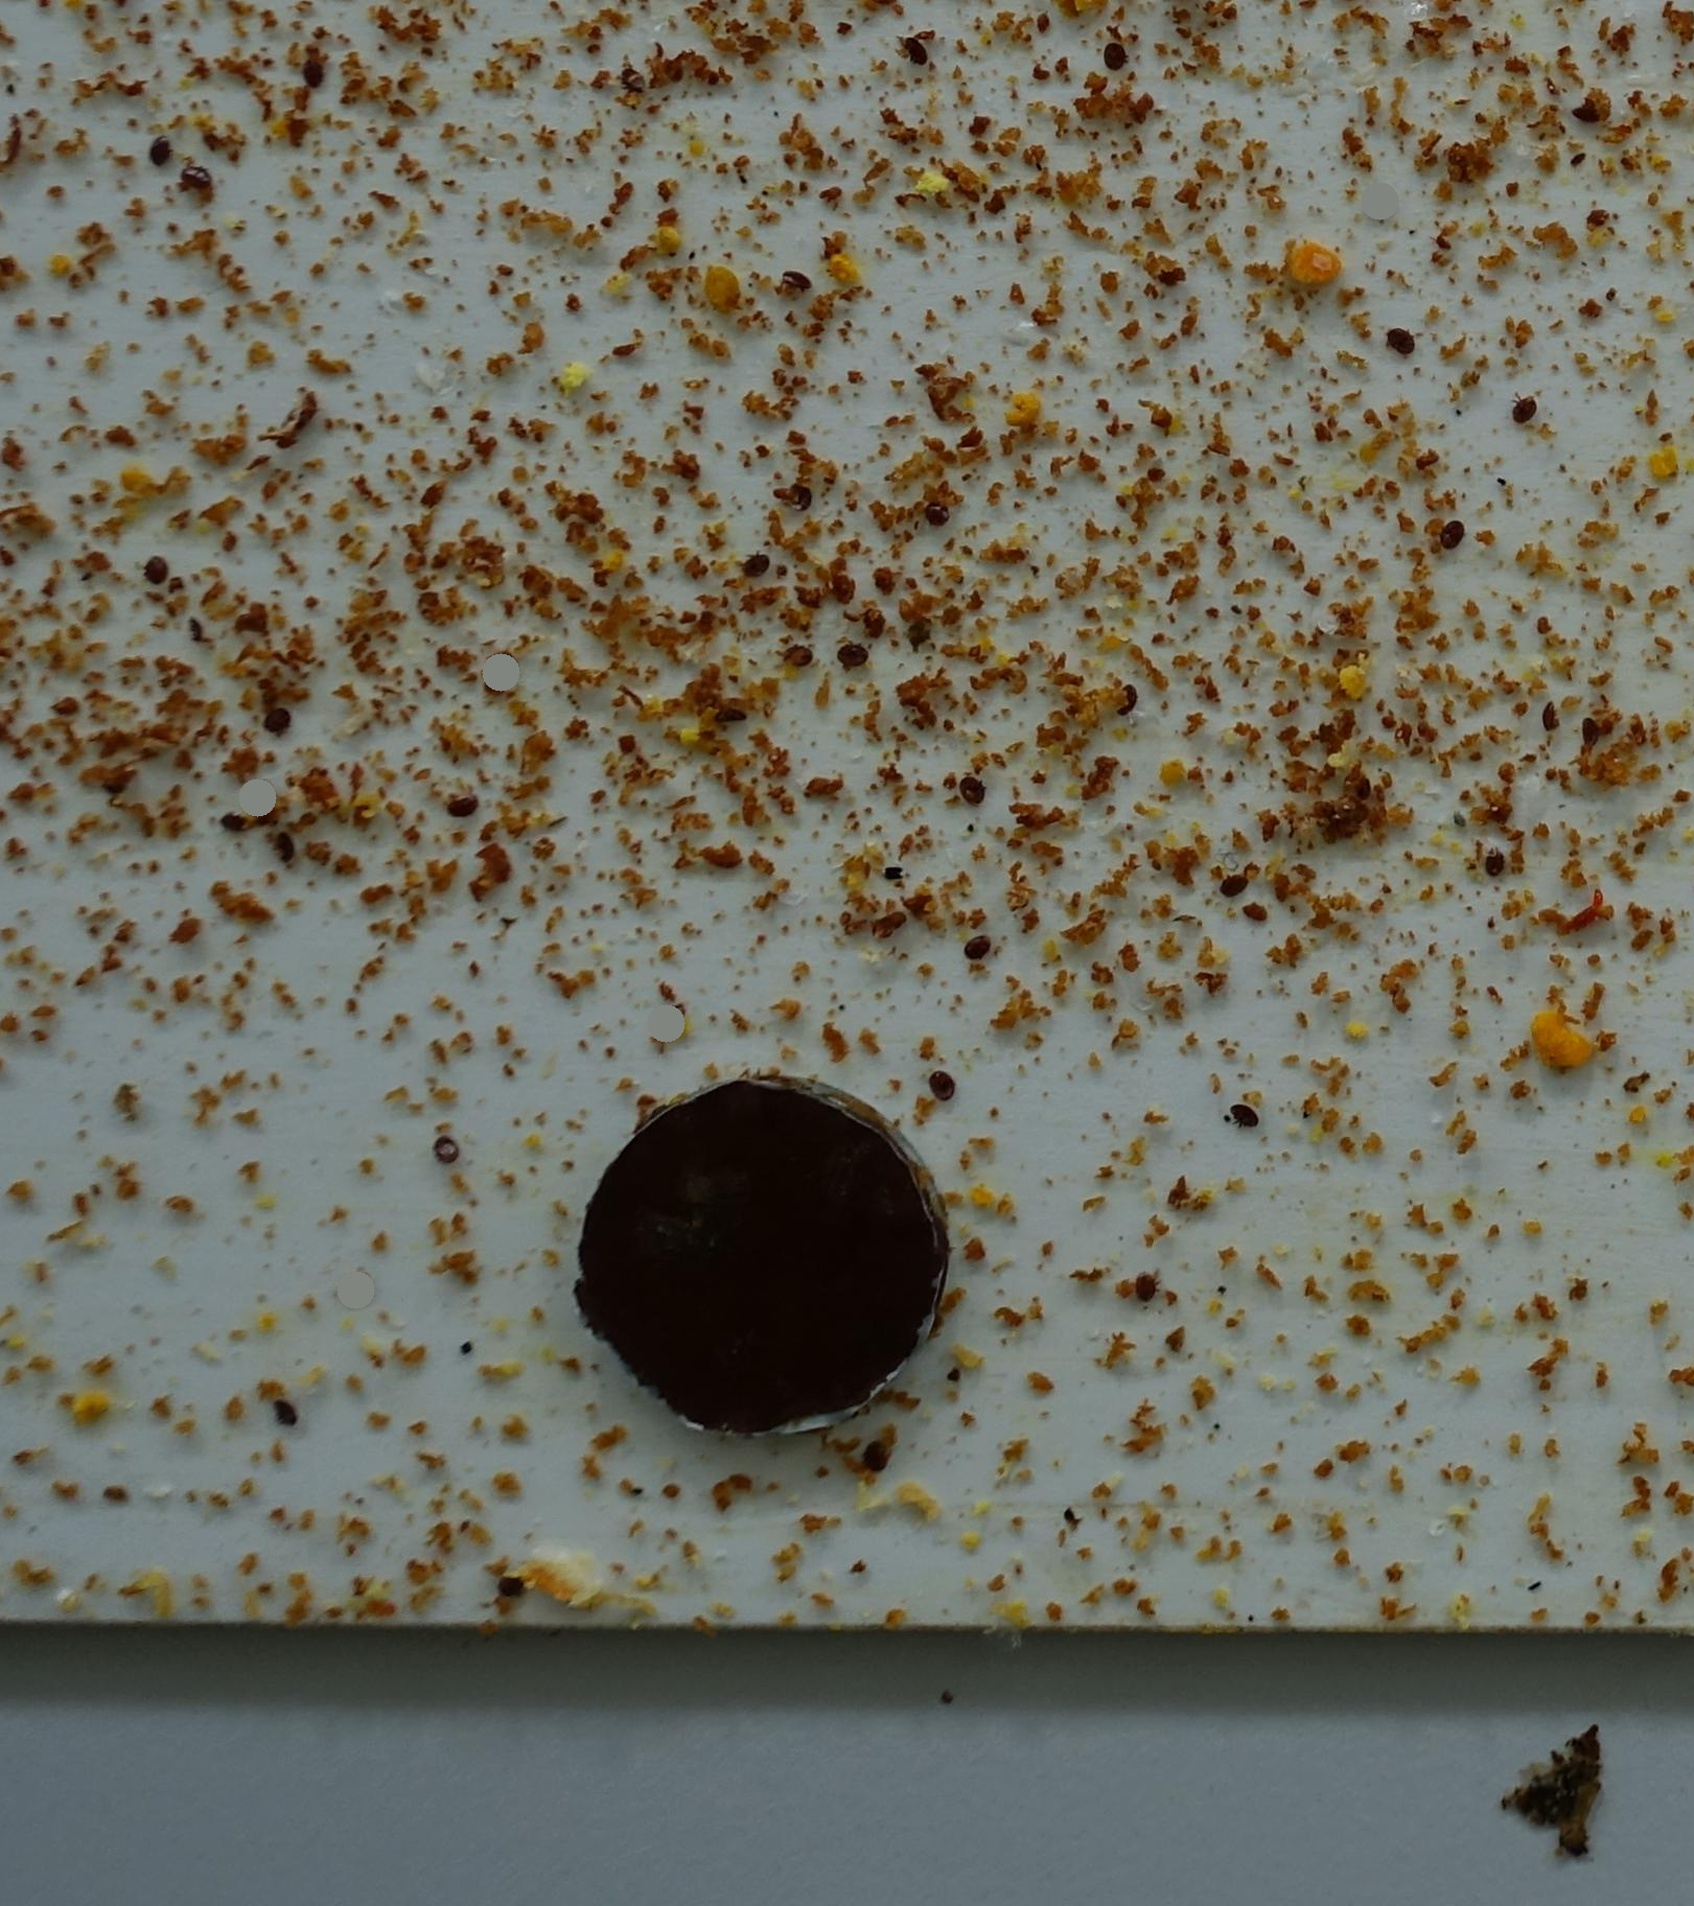Varroa: (612, 59, 652, 100), (744, 553, 773, 584), (782, 266, 813, 296), (253, 708, 285, 736), (1109, 687, 1140, 714), (1128, 1277, 1158, 1304), (1212, 868, 1241, 896), (863, 1442, 893, 1470), (275, 1398, 302, 1427), (428, 1141, 456, 1167), (298, 60, 325, 87), (1580, 95, 1607, 121), (1437, 523, 1463, 549), (958, 933, 984, 960), (1383, 332, 1408, 360), (1099, 46, 1127, 70), (450, 794, 477, 819), (961, 778, 986, 806), (144, 557, 170, 582), (930, 1074, 955, 1098), (154, 131, 177, 155), (1521, 397, 1540, 423), (1243, 1107, 1261, 1131), (1490, 853, 1509, 875), (927, 500, 947, 521), (844, 646, 863, 667), (795, 646, 813, 667), (907, 47, 925, 67), (1584, 724, 1602, 744), (1540, 711, 1562, 727), (795, 492, 811, 510), (190, 162, 208, 177)
